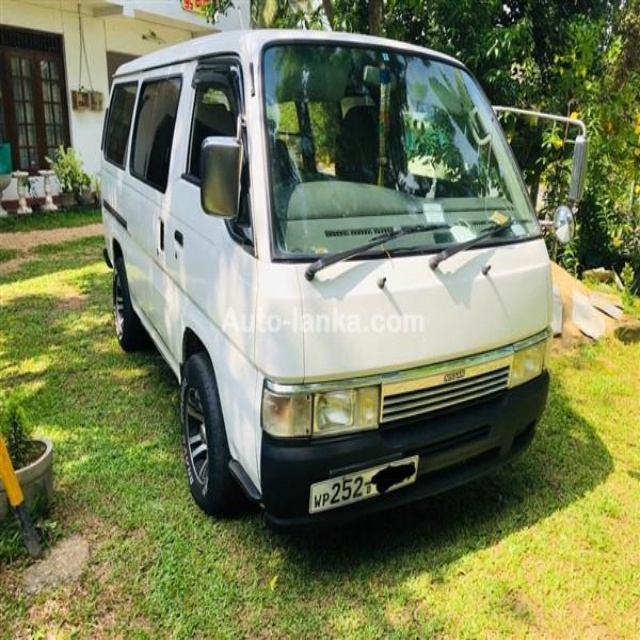Van: (99, 27, 551, 532)
